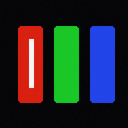4 line_v: (29, 39, 33, 87)
